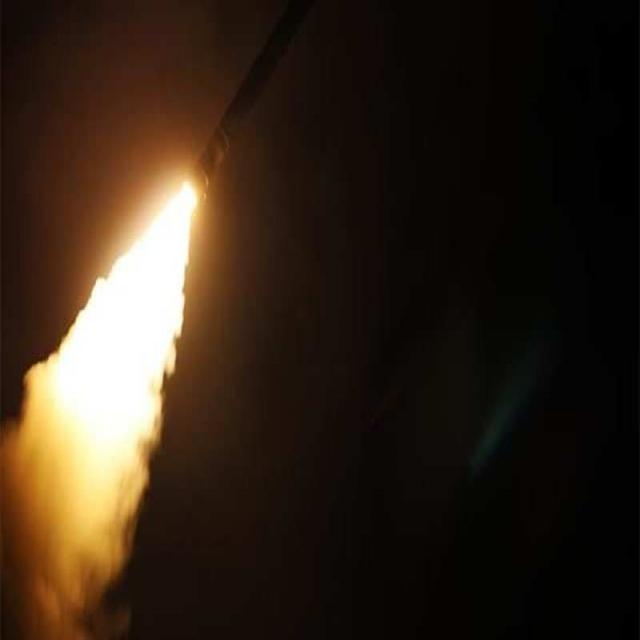missile: (160, 0, 310, 210)
